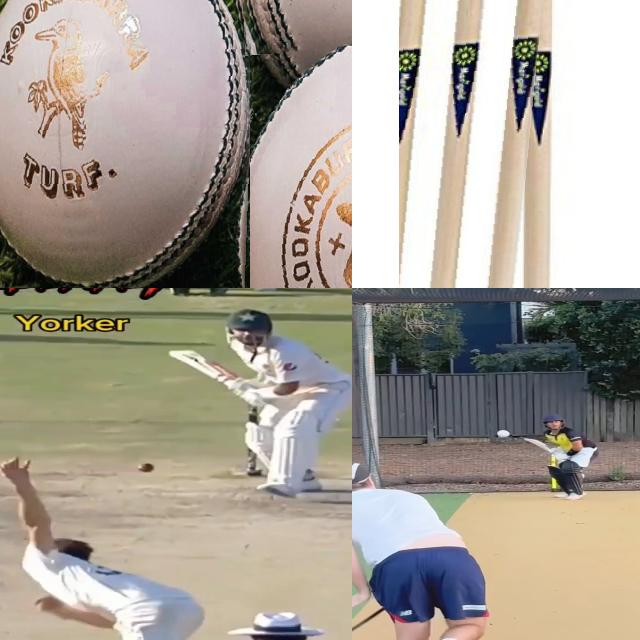Cricket ball: (0, 0, 258, 288), (249, 36, 352, 288), (136, 461, 156, 474), (494, 428, 512, 440)
Stumps: (399, 0, 550, 288)
